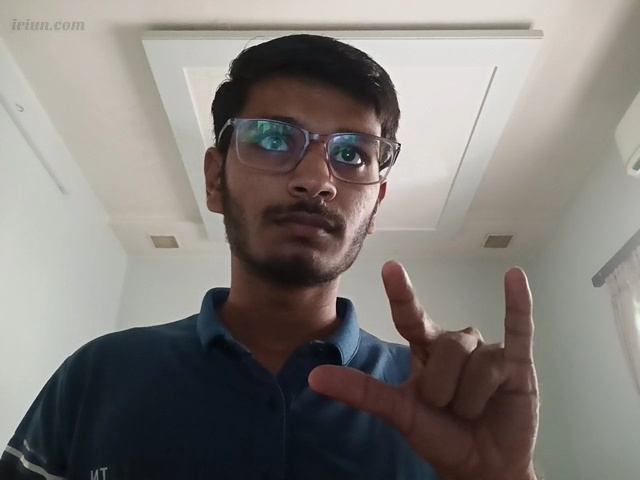I Love You: (302, 256, 557, 480)
